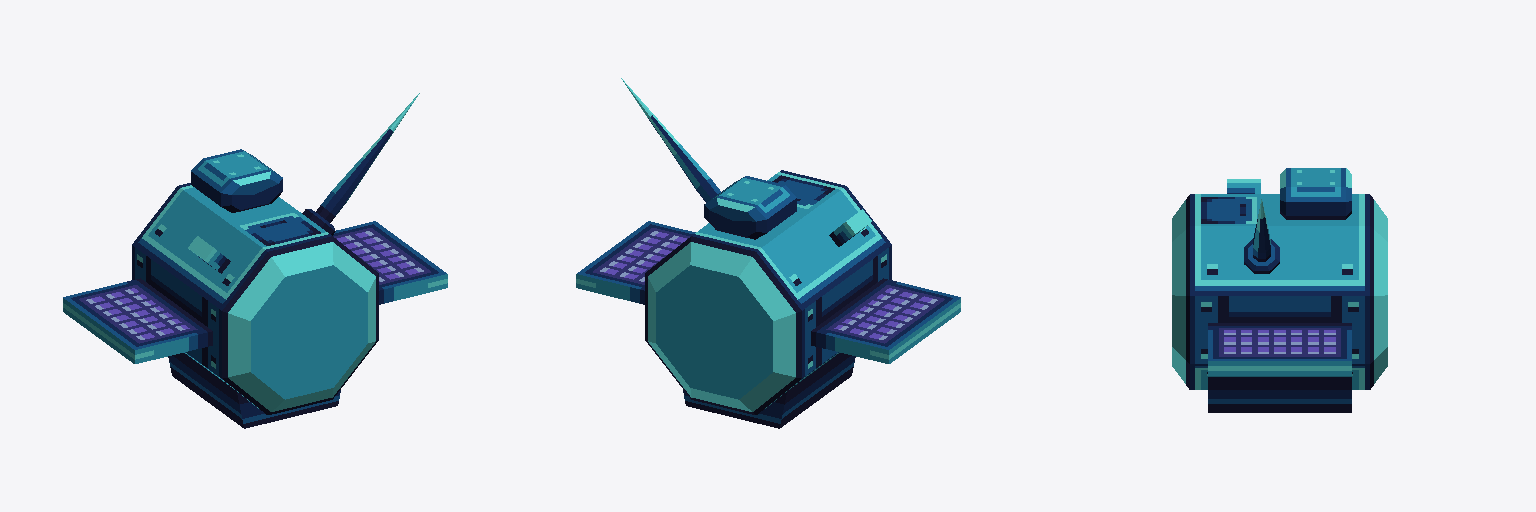
3 views of the same model, side by side, from view 1: azimuth 30°, elevation 25°; view 2: azimuth 150°, elevation 25°; view 3: azimuth 270°, elevation 25° (orthographic).
Parts seen in each view (by area): view 1: cylinder, cuboid; view 2: cylinder, cuboid; view 3: cylinder, cuboid.
Part boxes in pixels (x1,y1,x2,y2): cylinder: (132,93,419,414); cuboid: (63,221,447,428); cylinder: (621,78,891,414); cuboid: (576,209,960,428); cylinder: (1172,168,1387,389); cuboid: (1208,179,1351,412).
Size of the model in its own units: 0.1257 by 0.1029 by 0.075.
Materials: 1 (1 with a texture image).